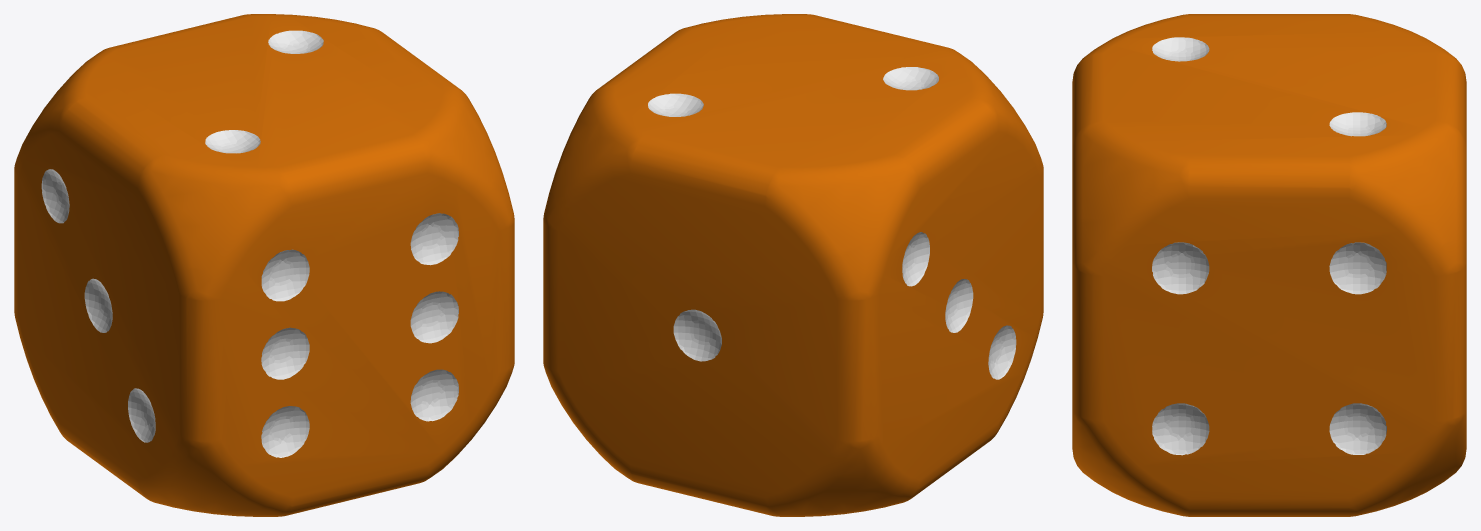
Rendered from Die Dotted Secondary Orange.glb.
3 views of the same model, side by side, from view 1: azimuth 30°, elevation 25°; view 2: azimuth 150°, elevation 25°; view 3: azimuth 270°, elevation 25° (orthographic). The views are drawn at different scales.
Visible parts, largest first — view 1: Die_Body; view 2: Die_Body; view 3: Die_Body.
Boxes of the visible parts, box(x1,y1,x2,y2) form: Die_Body: box(14, 14, 514, 516); Die_Body: box(543, 14, 1043, 516); Die_Body: box(1072, 14, 1466, 516).
Bounding box in the file's own units: 1 × 1 × 1.
